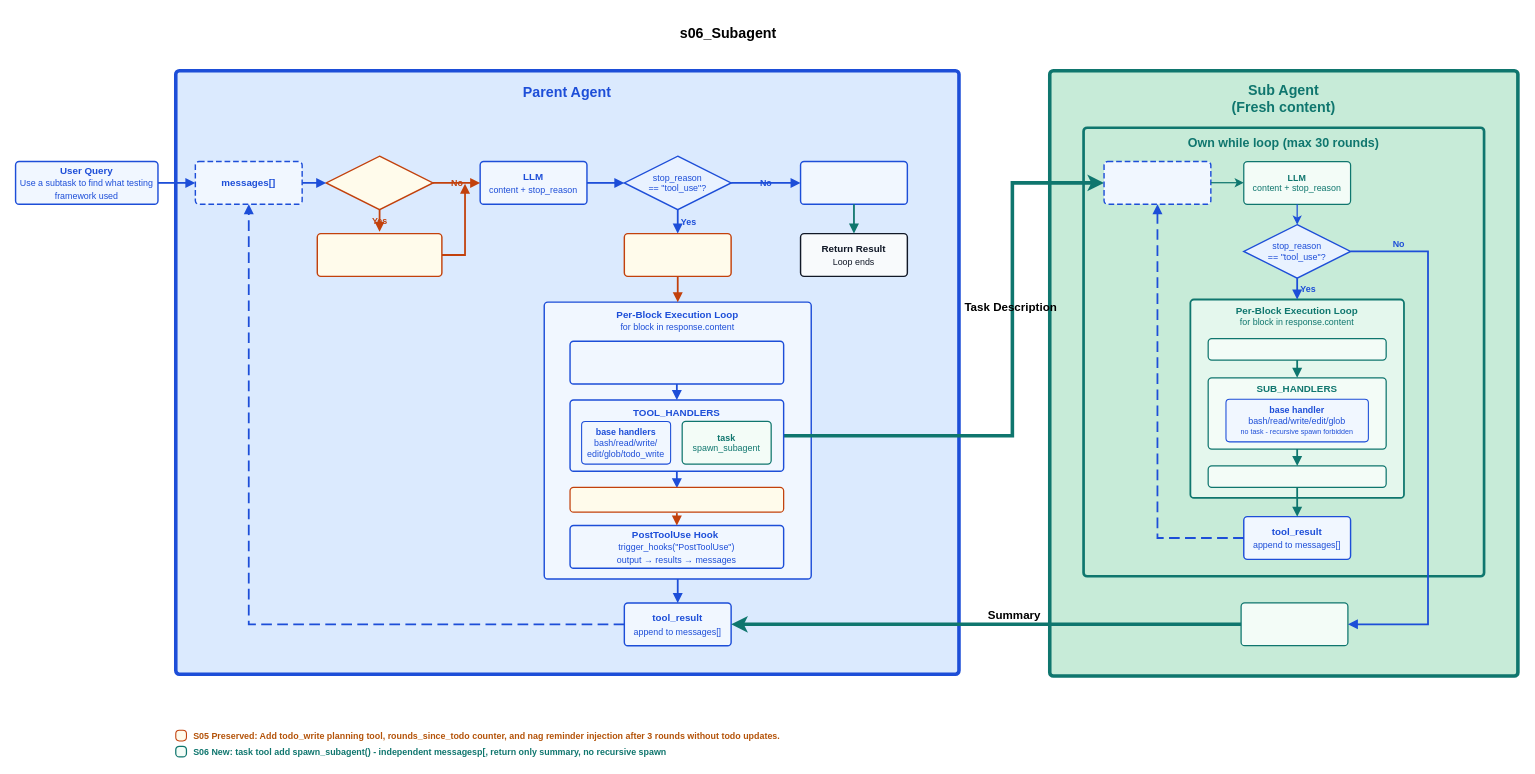
This 1535x774 diagram has some shape labels left out. Here are the shapes that lost their labels. From the top down, the centre of each, then its label:
the point at 379,182: rounds_since_todo >= 3?
the point at 853,182: Stop Hook trigger_hooks("Stop")
the point at 1157,182: messages[] Fresh: no parent history
the point at 379,254: Inject Reminder messages.append(reminder) rounds_since_todo = 0
the point at 677,254: rounds_since_todo++
the point at 676,362: PreToolUse Hook trigger_hooks("PreToolUse") blocked → results.append
the point at 1296,349: PreToolUse Hook
the point at 1296,476: PostToolUse Hook
the point at 676,499: if todo_write: rounds_since_todo = 0
the point at 1294,624: extract_text extract only last text history DISCARDED
